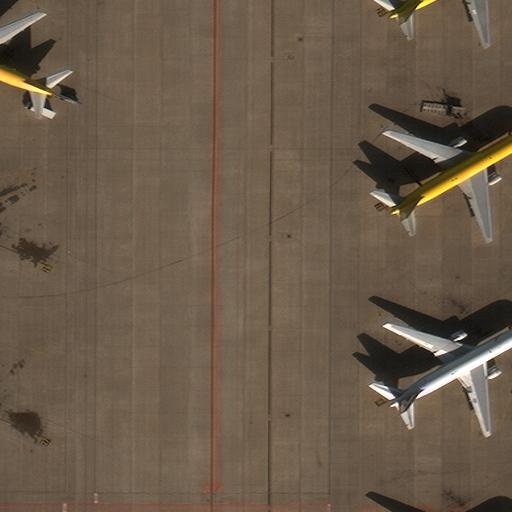Large Civil Transport: (388, 323, 511, 433), (390, 130, 511, 239), (0, 11, 52, 117), (389, 0, 506, 43)
